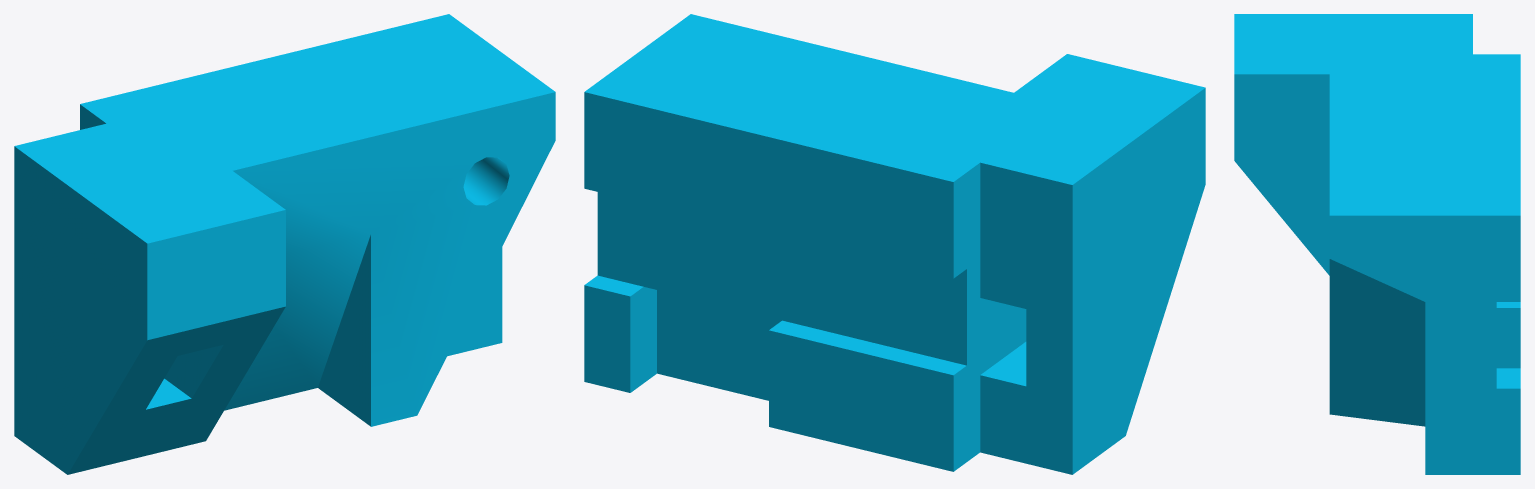
Rendered from peca4.glb.
3 views of the same model, side by side, from view 1: azimuth 30°, elevation 25°; view 2: azimuth 150°, elevation 25°; view 3: azimuth 270°, elevation 25° (orthographic). The views are drawn at different scales.
Visible parts, largest first — view 1: 3D_Solid; view 2: 3D_Solid; view 3: 3D_Solid.
Part boxes in pixels (box(x1,y1,x2,y2)): 3D_Solid: box(14, 14, 555, 474); 3D_Solid: box(584, 14, 1205, 474); 3D_Solid: box(1234, 14, 1520, 474).
Bounding box in the file's own units: 100 × 60 × 60.
